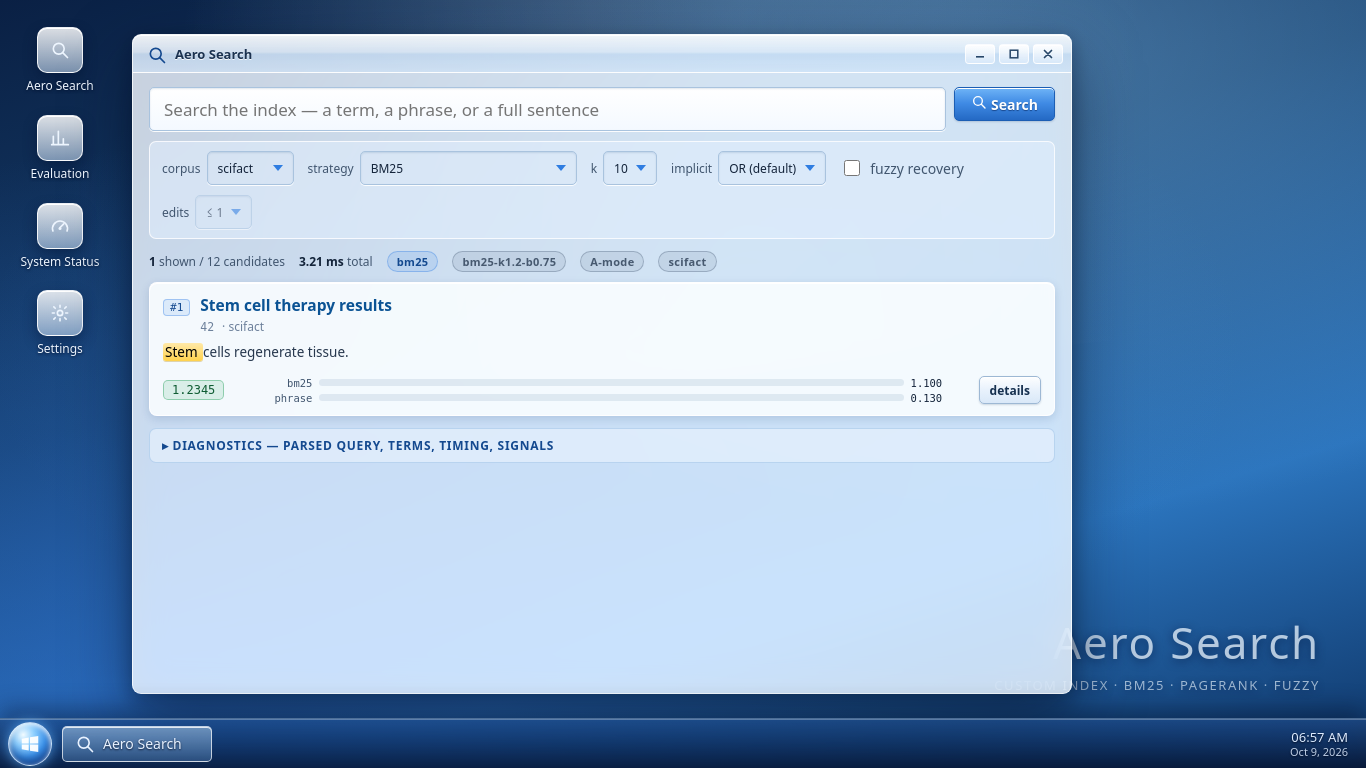
Test: Aero desktop › minimizes via the title bar and restores from the taskbar
Expected: the link "Stem cell therapy results" is shown, x1=200 y1=294 x2=392 y2=316
Expected: the number of elements with class "aero-window" is 1, x1=132 y1=34 x2=1072 y2=694
Click the button named "Minimize Aero Search": (980, 54) x1=965 y1=44 x2=995 y2=64
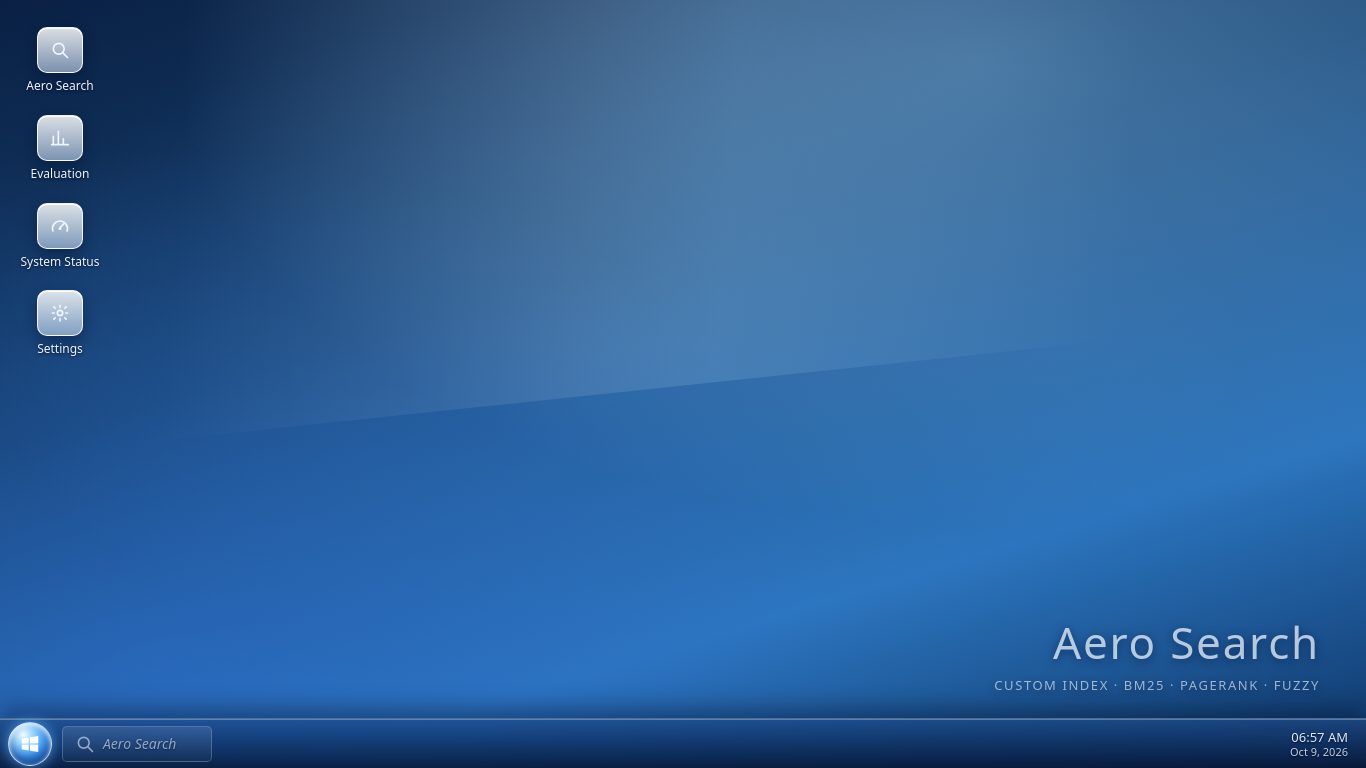
Now the element with class "aero-window" is gone
Click the button with class "taskbar-btn": (137, 744) x1=62 y1=726 x2=212 y2=762
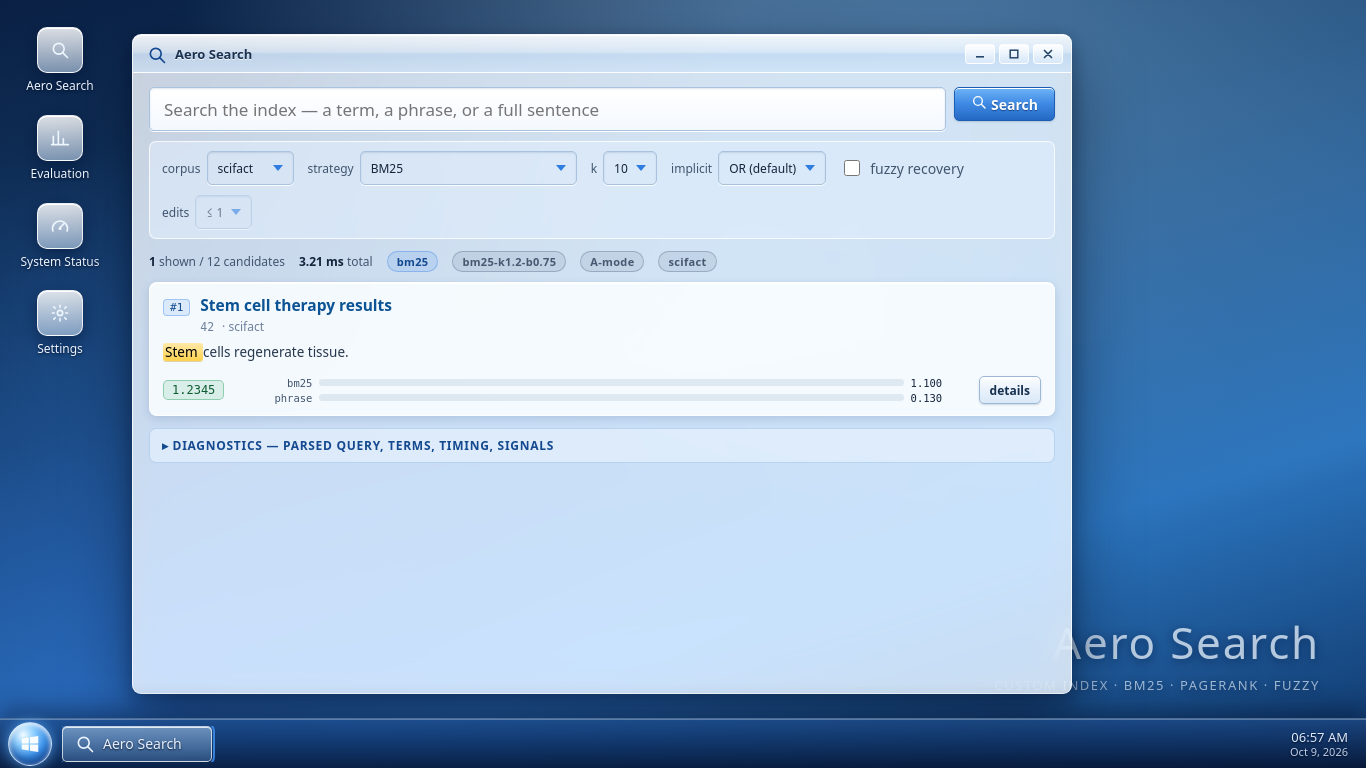
Now the element with class "aero-window" is shown, box x1=132 y1=34 x2=1072 y2=694
Now the link "Stem cell therapy results" is shown, box x1=200 y1=294 x2=392 y2=316
